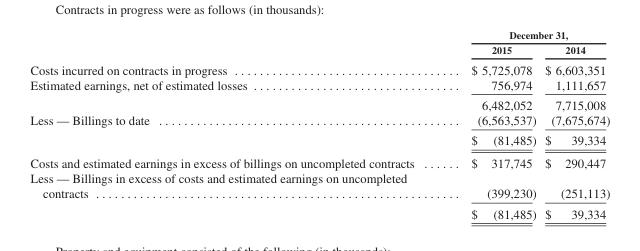table: (29, 28, 609, 220)
table column: (29, 28, 442, 220), (442, 28, 539, 220), (539, 28, 609, 220)
table column header: (29, 28, 609, 59)
table row: (29, 170, 609, 203), (29, 129, 609, 151), (29, 151, 609, 170), (29, 76, 609, 94), (29, 94, 609, 112), (29, 42, 609, 59), (29, 59, 609, 76), (29, 112, 609, 129), (29, 203, 609, 220), (29, 28, 609, 42)
table spanning cell: (442, 28, 609, 42)
